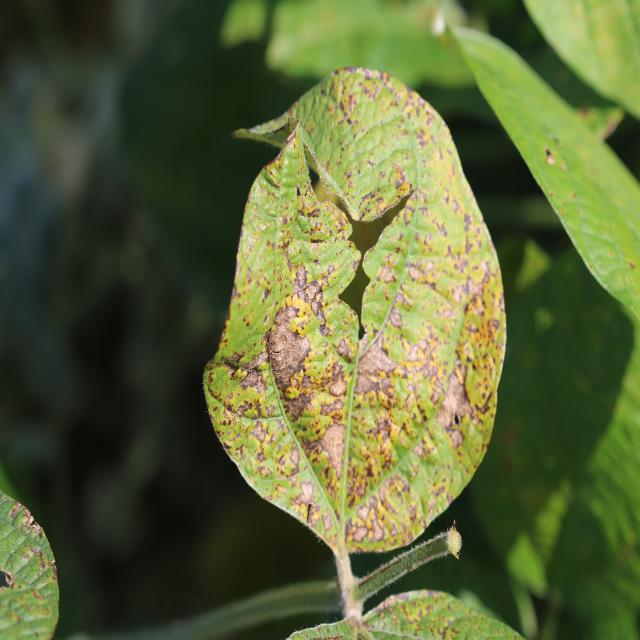Bacterial_Blight: (348, 456, 430, 546), (267, 313, 311, 384), (357, 175, 409, 225), (466, 332, 501, 404), (307, 419, 348, 479), (293, 264, 336, 314), (440, 365, 471, 421), (263, 436, 301, 479), (283, 386, 324, 421), (383, 244, 409, 298), (406, 257, 447, 289), (293, 373, 329, 406), (208, 365, 236, 401), (288, 487, 314, 520), (236, 368, 268, 394), (355, 369, 383, 398), (296, 194, 323, 224), (222, 348, 250, 369), (232, 250, 246, 291), (290, 271, 309, 301), (327, 370, 348, 397), (335, 335, 356, 362), (390, 165, 409, 192), (375, 264, 398, 286), (466, 275, 485, 300), (297, 480, 314, 504), (341, 91, 357, 116), (412, 438, 431, 459), (407, 261, 426, 282), (356, 329, 371, 355), (359, 189, 378, 207), (351, 524, 369, 542), (253, 422, 267, 442), (358, 502, 371, 521), (307, 232, 326, 243), (322, 512, 333, 530), (295, 184, 302, 198), (271, 347, 282, 355), (208, 372, 215, 384)
Soybean: (201, 67, 508, 632)
